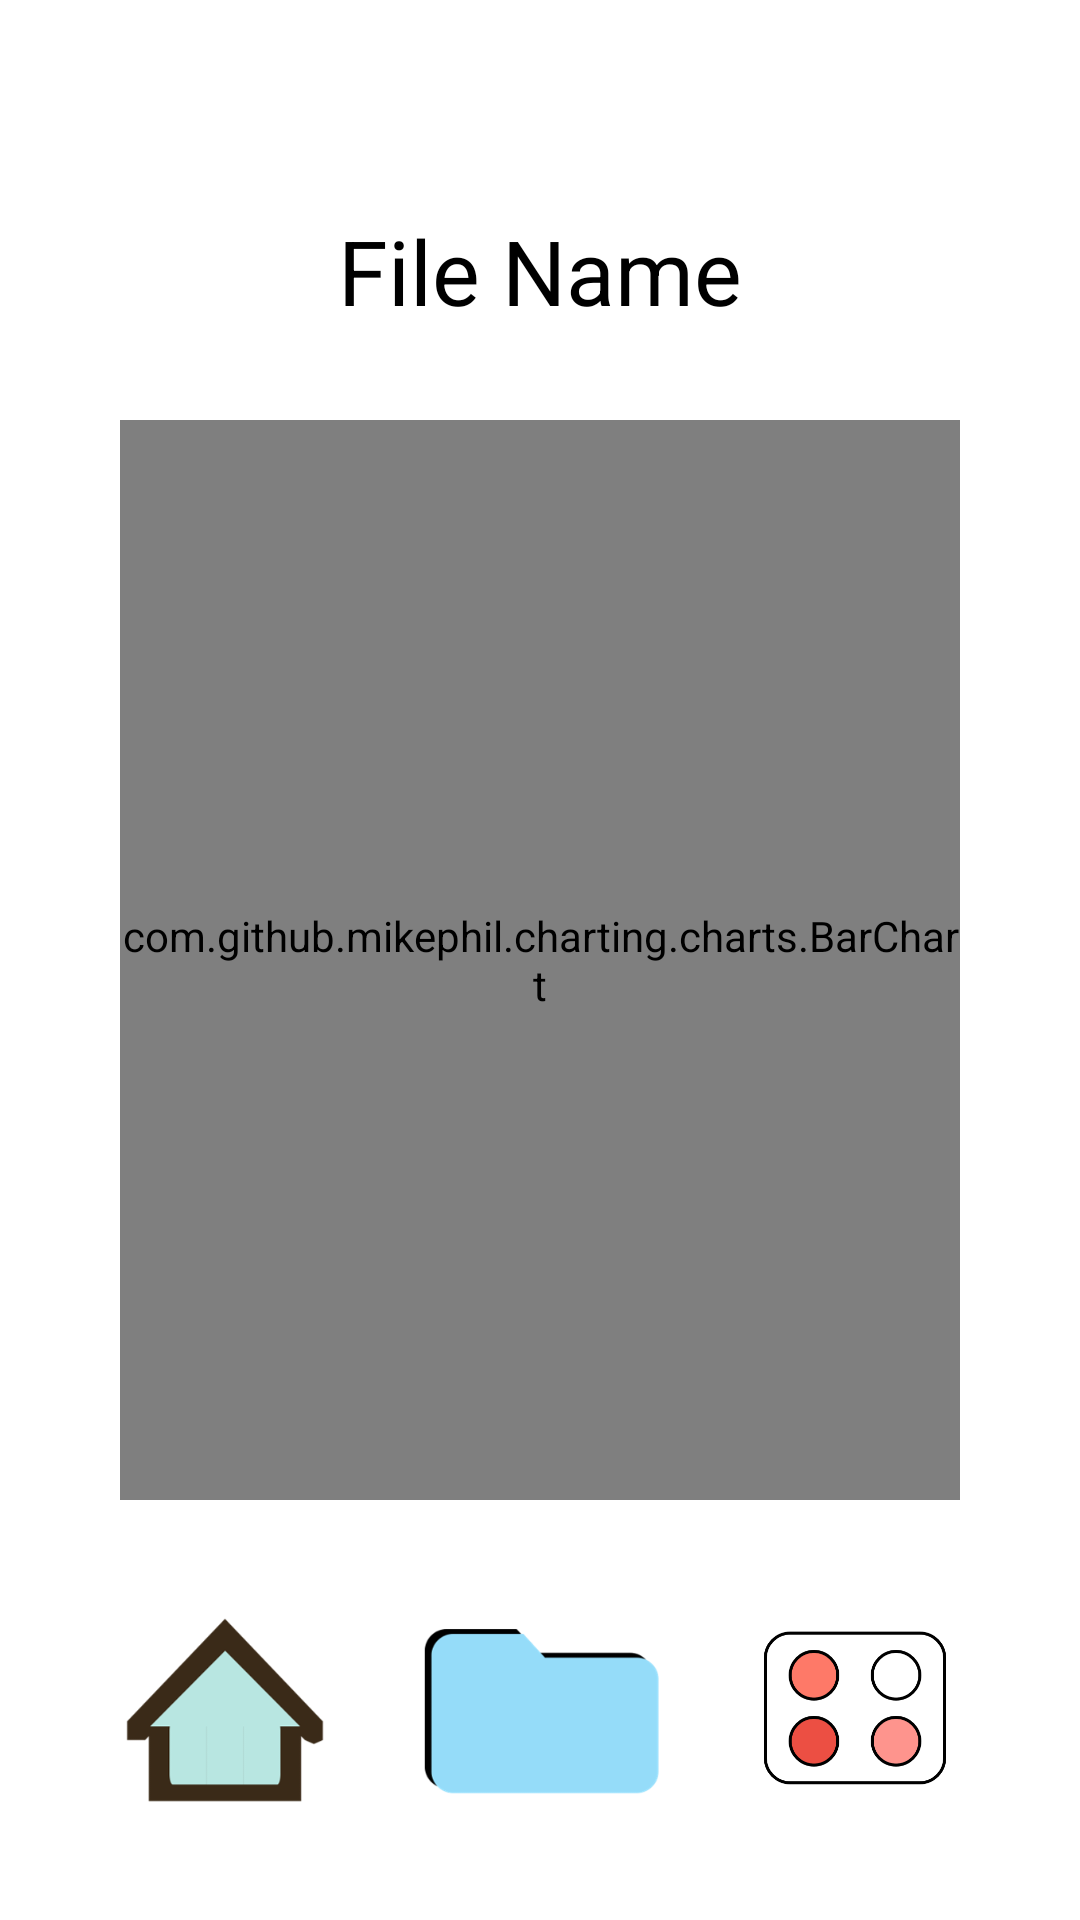

Screen size 1080*1920. Icon name, then its box in pixels as (x1, y1, x2, y2):
file: (424, 1629, 659, 1794)
home: (126, 1619, 324, 1802)
well: (764, 1631, 946, 1785)
